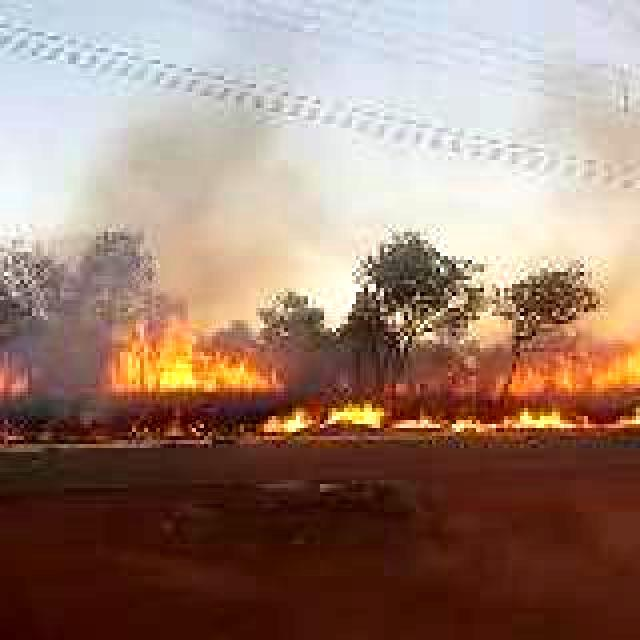smoke: (38, 90, 296, 350), (528, 0, 640, 344)
